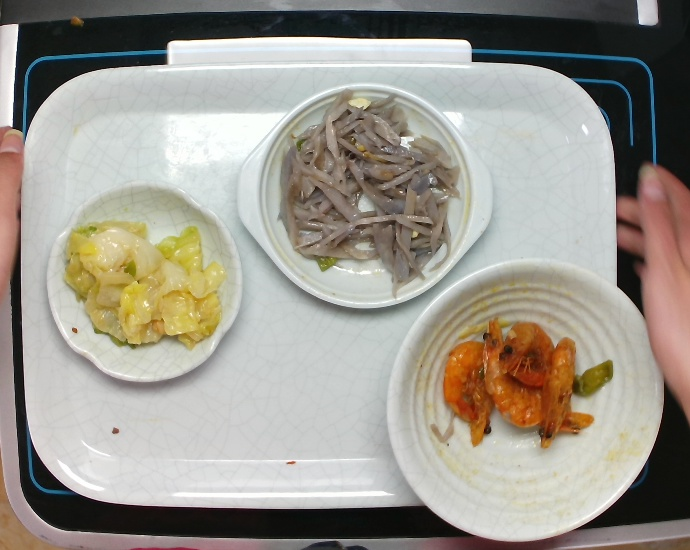JYsf-Ao_Yuan_Wan: (41, 174, 251, 398)
JYsf-Shuang_Er_Pan: (234, 80, 499, 312)
JYsf-Xiao_Tang_Wan: (381, 253, 670, 550)
